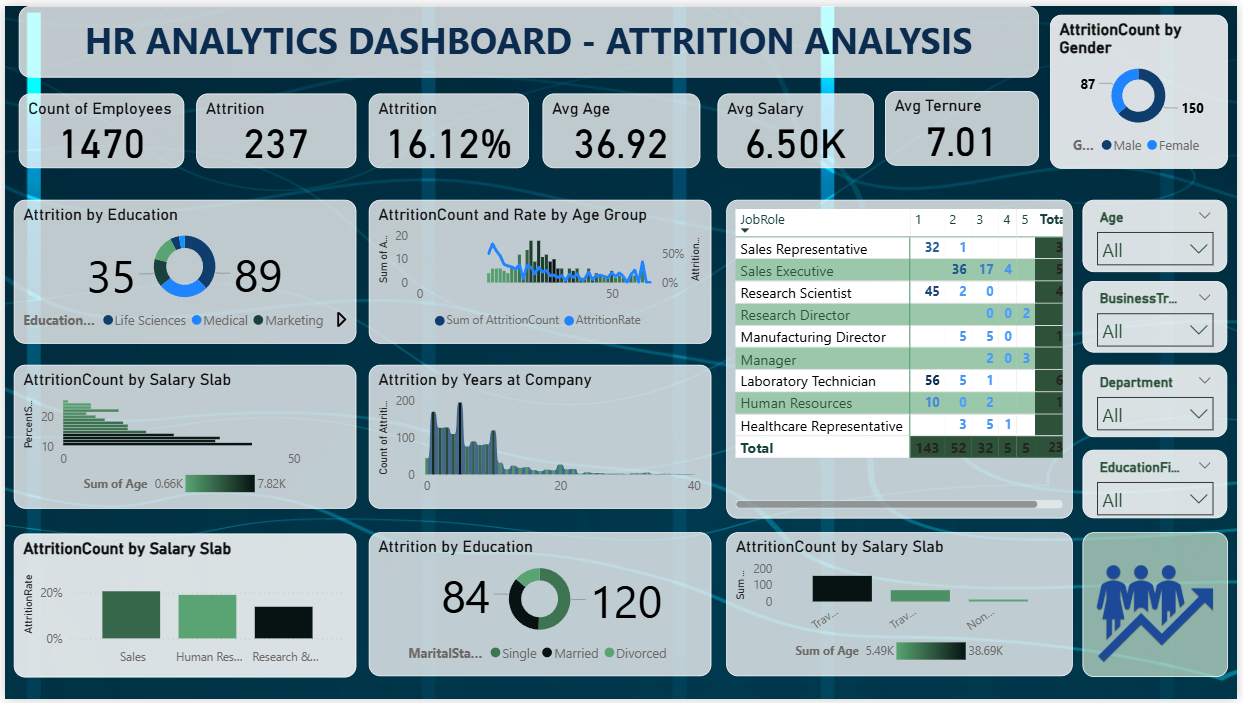

Layout of this report page (visuals, bound fields, positions):
{"tool":"powerbi","page":{"name":"Page 1","canvas":[1280,720],"ordinal":0},"visuals":[{"type":"textbox","box":[14.3,0,1059.7,74],"z":0},{"type":"card","title":"Count of Employees","fields":{"Values":["CountNonNull(WA_Fn-UseC_-HR-Employee-Attrition.EmployeeNumber)"]},"box":[14.5,90.8,172.4,77.6],"z":1000},{"type":"card","title":"Attrition","fields":{"Values":["Sum(WA_Fn-UseC_-HR-Employee-Attrition.AttritionCount)"]},"box":[198.7,90.9,166.2,77.9],"z":2000},{"type":"card","title":"Attrition","fields":{"Values":["WA_Fn-UseC_-HR-Employee-Attrition.AttritionRate"]},"box":[377.9,90.9,166.2,77.9],"z":3000},{"type":"card","title":"Avg Age","fields":{"Values":["Avg(WA_Fn-UseC_-HR-Employee-Attrition.Age)"]},"box":[558.4,90.9,163.6,77.9],"z":4000},{"type":"card","title":"Avg Salary","fields":{"Values":["Avg(WA_Fn-UseC_-HR-Employee-Attrition.MonthlyIncome)"]},"box":[740.3,90.9,162.3,77.9],"z":5000},{"type":"card","title":"Avg Ternure","fields":{"Values":["Avg(WA_Fn-UseC_-HR-Employee-Attrition.YearsAtCompany)"]},"box":[914.3,88.3,159.7,77.9],"z":6000},{"type":"donutChart","title":"AttritionCount by Gender","fields":{"Category":["WA_Fn-UseC_-HR-Employee-Attrition.Gender"],"Y":["Sum(WA_Fn-UseC_-HR-Employee-Attrition.AttritionCount)"]},"box":[1085.7,9.1,184.4,159.7],"z":7000},{"type":"donutChart","title":"Attrition by Education","fields":{"Category":["WA_Fn-UseC_-HR-Employee-Attrition.EducationField","WA_Fn-UseC_-HR-Employee-Attrition.YearsAtCompany"],"Y":["Sum(WA_Fn-UseC_-HR-Employee-Attrition.AttritionCount)"]},"box":[9.1,201.3,355.8,149.4],"z":8000},{"type":"lineClusteredColumnComboChart","title":"AttritionCount and Rate by Age Group","fields":{"Category":["WA_Fn-UseC_-HR-Employee-Attrition.Age"],"Y":["Sum(WA_Fn-UseC_-HR-Employee-Attrition.AttritionCount)"],"Y2":["WA_Fn-UseC_-HR-Employee-Attrition.AttritionRate"]},"box":[377.9,201.3,355.8,149.4],"z":9000},{"type":"pivotTable","fields":{"Rows":["WA_Fn-UseC_-HR-Employee-Attrition.JobRole"],"Columns":["WA_Fn-UseC_-HR-Employee-Attrition.JobLevel"],"Values":["Sum(WA_Fn-UseC_-HR-Employee-Attrition.AttritionCount)"]},"box":[749.4,201.3,359.7,331.2],"z":10000},{"type":"barChart","title":"AttritionCount by Salary Slab","fields":{"Y":["Sum(WA_Fn-UseC_-HR-Employee-Attrition.AttritionCount)"],"Category":["WA_Fn-UseC_-HR-Employee-Attrition.PercentSalaryHike"]},"box":[9.1,372.7,355.8,149.4],"z":11000},{"type":"ribbonChart","title":"Attrition by Years at Company","fields":{"Category":["WA_Fn-UseC_-HR-Employee-Attrition.YearsAtCompany"],"Y":["CountNonNull(WA_Fn-UseC_-HR-Employee-Attrition.Attrition)"]},"box":[377.9,372.7,355.8,149.4],"z":12000},{"type":"lineClusteredColumnComboChart","title":"AttritionCount by Salary Slab","fields":{"Category":["WA_Fn-UseC_-HR-Employee-Attrition.Department"],"Y":["WA_Fn-UseC_-HR-Employee-Attrition.AttritionRate"]},"box":[9.1,548.1,355.8,149.4],"z":13000},{"type":"donutChart","title":"Attrition by Education","fields":{"Y":["Sum(WA_Fn-UseC_-HR-Employee-Attrition.AttritionCount)"],"Category":["WA_Fn-UseC_-HR-Employee-Attrition.MaritalStatus"]},"box":[377.9,546.8,355.8,149.4],"z":14000},{"type":"columnChart","title":"AttritionCount by Salary Slab","fields":{"Y":["Sum(WA_Fn-UseC_-HR-Employee-Attrition.AttritionCount)"],"Category":["WA_Fn-UseC_-HR-Employee-Attrition.BusinessTravel"]},"box":[749.4,546.8,359.7,149.4],"z":15000},{"type":"slicer","fields":{"Values":["WA_Fn-UseC_-HR-Employee-Attrition.Age"]},"box":[1119.5,201.3,150.6,75.3],"z":16000},{"type":"slicer","fields":{"Values":["WA_Fn-UseC_-HR-Employee-Attrition.BusinessTravel"]},"box":[1119.5,285.7,150.6,74],"z":17000},{"type":"slicer","fields":{"Values":["WA_Fn-UseC_-HR-Employee-Attrition.Department"]},"box":[1119.5,372.7,150.6,75.3],"z":18000},{"type":"slicer","fields":{"Values":["WA_Fn-UseC_-HR-Employee-Attrition.EducationField"]},"box":[1119.5,461,150.6,71.4],"z":19000},{"type":"textbox","box":[1119,547,151,150],"z":20000},{"type":"image","box":[1119.5,546.8,150.6,164.9],"z":21000}]}

Visuals, with their boxes in screenshot pixels (x1, y1, x2, y2), scaled from the page's 1280x720 canvas onto the 1243x703 screenshot:
textbox: x1=14, y1=0, x2=1043, y2=72
"Count of Employees" card: x1=14, y1=89, x2=181, y2=164
"Attrition" card: x1=193, y1=89, x2=354, y2=165
"Attrition" card: x1=367, y1=89, x2=528, y2=165
"Avg Age" card: x1=542, y1=89, x2=701, y2=165
"Avg Salary" card: x1=719, y1=89, x2=877, y2=165
"Avg Ternure" card: x1=888, y1=86, x2=1043, y2=162
"AttritionCount by Gender" donutChart: x1=1054, y1=9, x2=1233, y2=165
"Attrition by Education" donutChart: x1=9, y1=197, x2=354, y2=342
"AttritionCount and Rate by Age Group" lineClusteredColumnComboChart: x1=367, y1=197, x2=712, y2=342
pivotTable - WA_Fn-UseC_-HR-Employee-Attrition.JobRole x WA_Fn-UseC_-HR-Employee-Attrition.JobLevel: x1=728, y1=197, x2=1077, y2=520
"AttritionCount by Salary Slab" barChart: x1=9, y1=364, x2=354, y2=510
"Attrition by Years at Company" ribbonChart: x1=367, y1=364, x2=712, y2=510
"AttritionCount by Salary Slab" lineClusteredColumnComboChart: x1=9, y1=535, x2=354, y2=681
"Attrition by Education" donutChart: x1=367, y1=534, x2=712, y2=680
"AttritionCount by Salary Slab" columnChart: x1=728, y1=534, x2=1077, y2=680
slicer - WA_Fn-UseC_-HR-Employee-Attrition.Age: x1=1087, y1=197, x2=1233, y2=270
slicer - WA_Fn-UseC_-HR-Employee-Attrition.BusinessTravel: x1=1087, y1=279, x2=1233, y2=351
slicer - WA_Fn-UseC_-HR-Employee-Attrition.Department: x1=1087, y1=364, x2=1233, y2=437
slicer - WA_Fn-UseC_-HR-Employee-Attrition.EducationField: x1=1087, y1=450, x2=1233, y2=520
textbox: x1=1087, y1=534, x2=1233, y2=681
image: x1=1087, y1=534, x2=1233, y2=695
